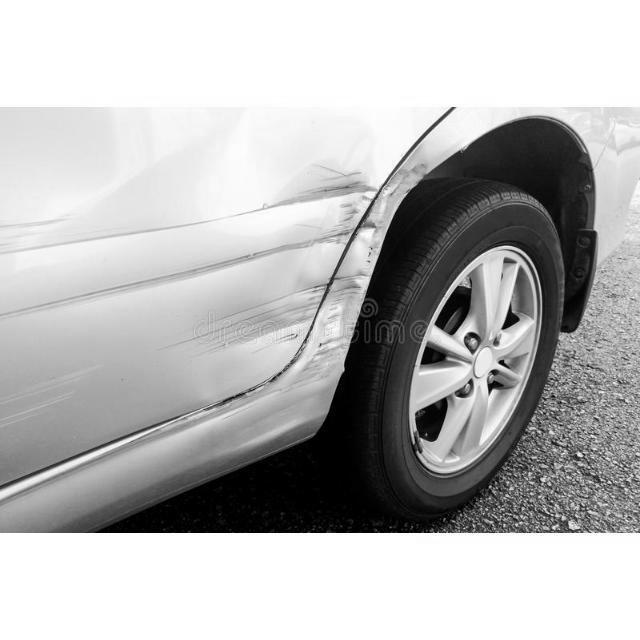doorouter-dent: (0, 108, 350, 447)
quaterpanel-dent: (350, 169, 554, 361)
